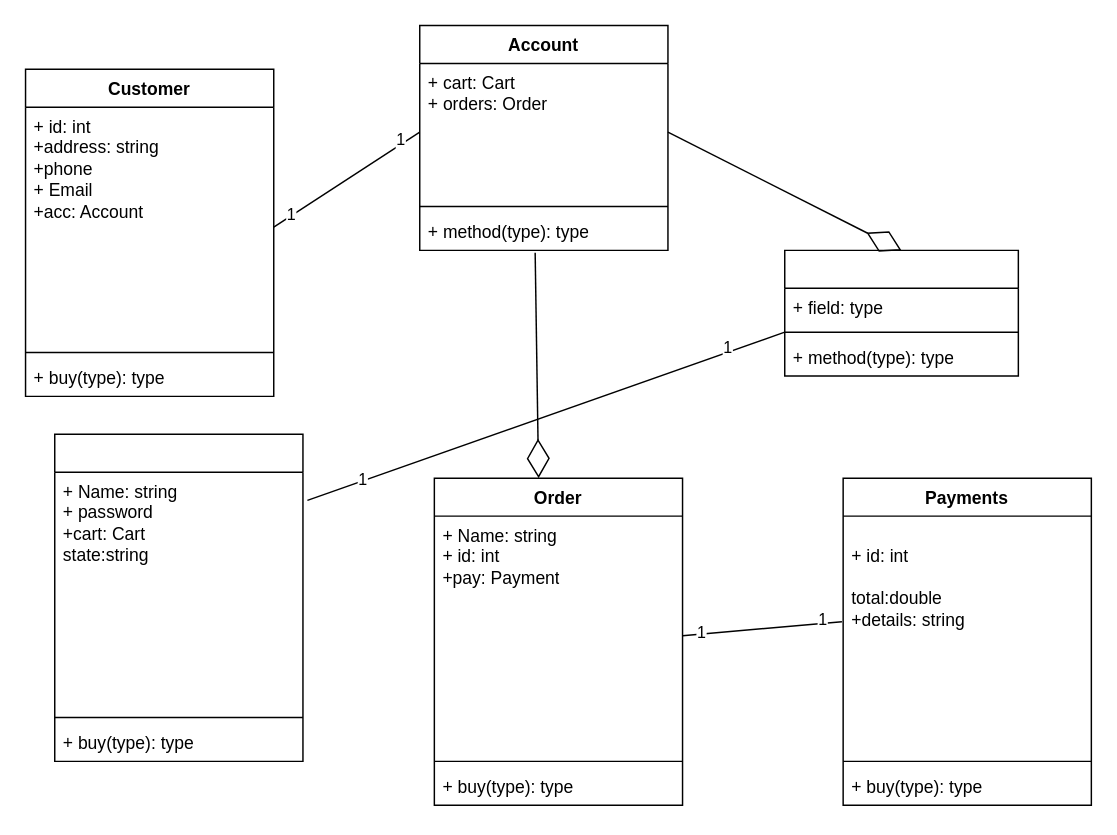
Image size: 1117x835. Some labels were removed from this diagram. The shapes that lost their labels are listed below. From the top down, each one's box as (x1, y1, x2, y2) in pixels, then its label:
(783, 249, 1018, 376): Cart
(53, 433, 303, 761): Web User
